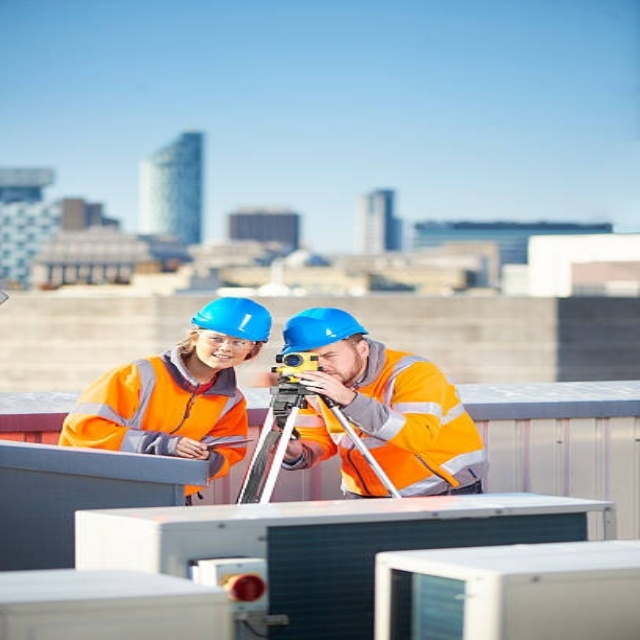Gafas: (197, 332, 262, 349)
Sin_gafas: (321, 351, 339, 360)
Sin_guantes: (295, 369, 351, 403), (169, 435, 211, 459)
Sin_mascara: (207, 351, 235, 367)
